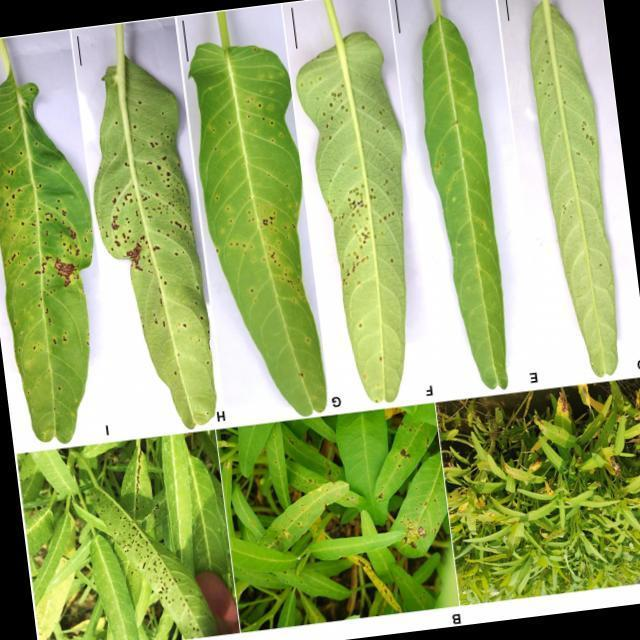Bacterial Spot: (198, 70, 321, 397), (105, 102, 210, 380), (302, 64, 404, 292), (0, 113, 91, 364), (93, 477, 211, 640), (528, 23, 600, 175)
